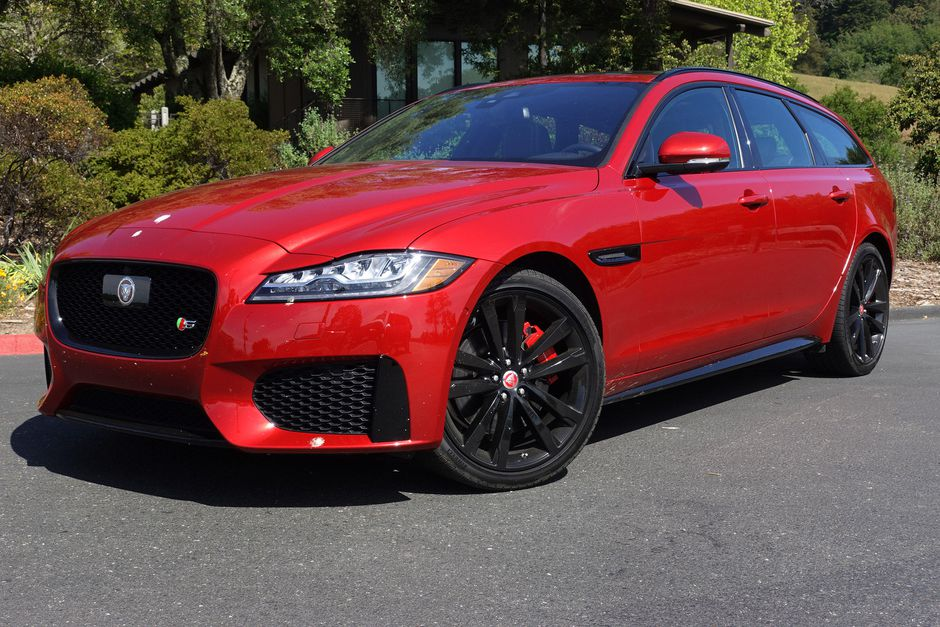car: (34, 65, 897, 491)
